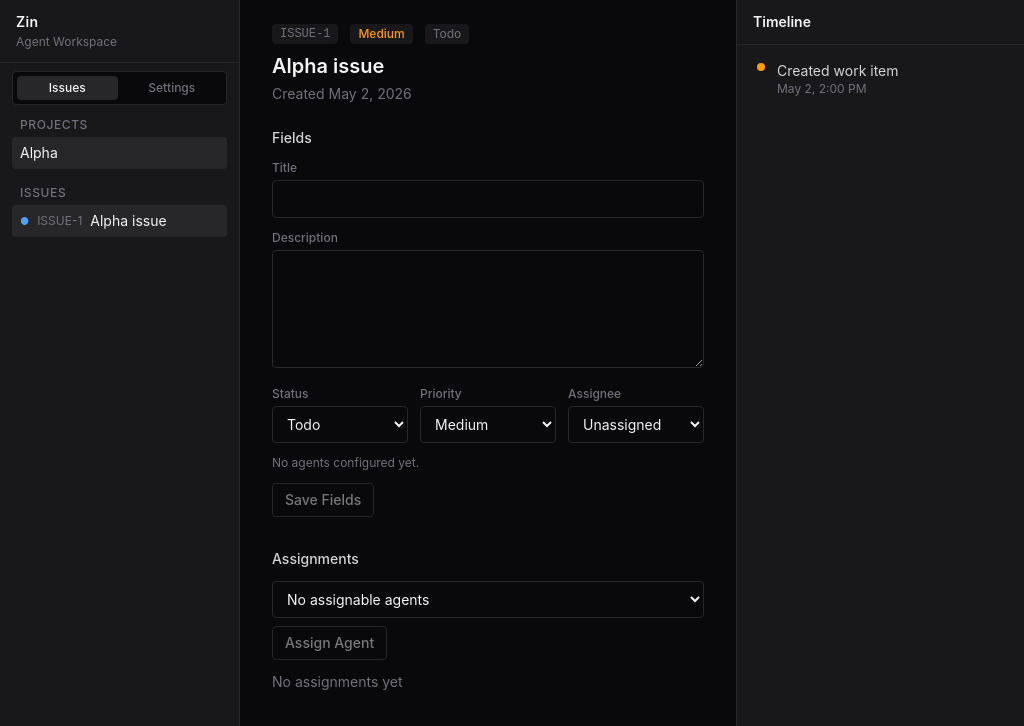
Test case: App › saves issue fields through the daemon and reloads server truth after retry
Check: the heading "Alpha issue" is shown, box [272,54,384,78]
Type "Server title" into the field labelled "Title".
click(488, 199); type("Server title")  # box [272,180,704,218]
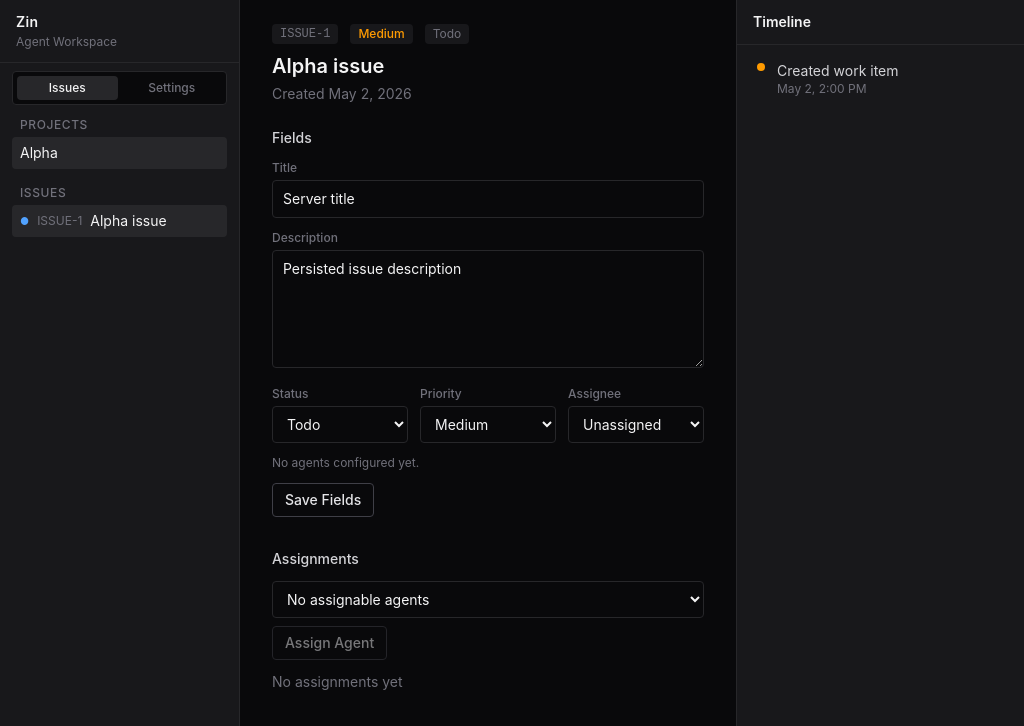
Select "Done" in the dropdown labelled "Status" at (340, 424), box [272,406,408,443]
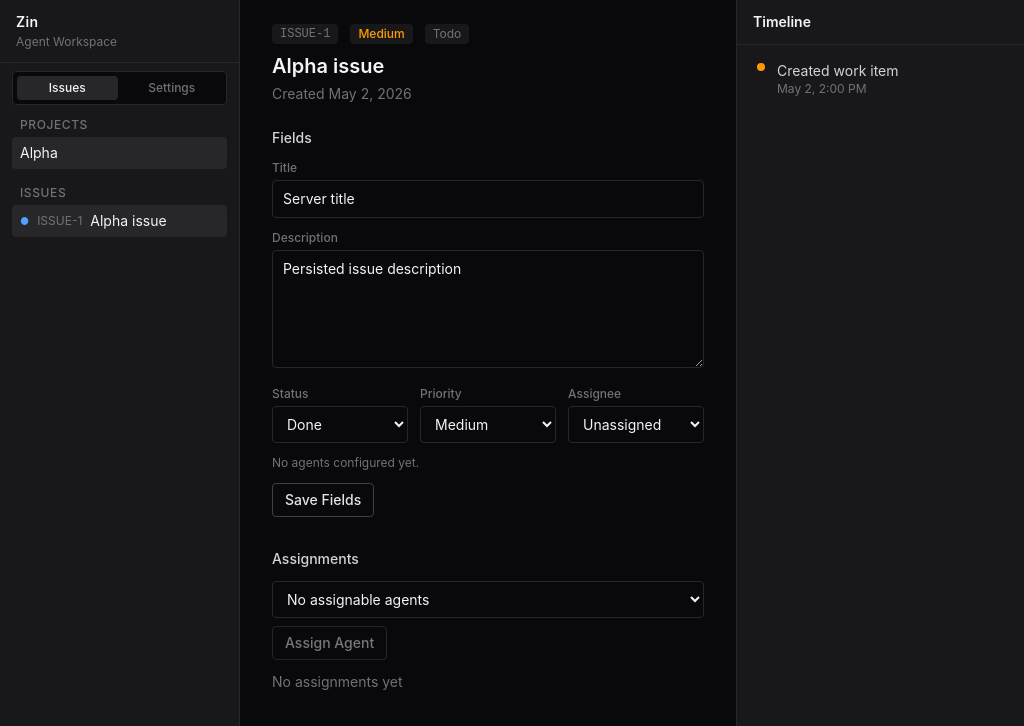
Click the button "Save Fields".
click(323, 500)  # box [272,483,374,517]
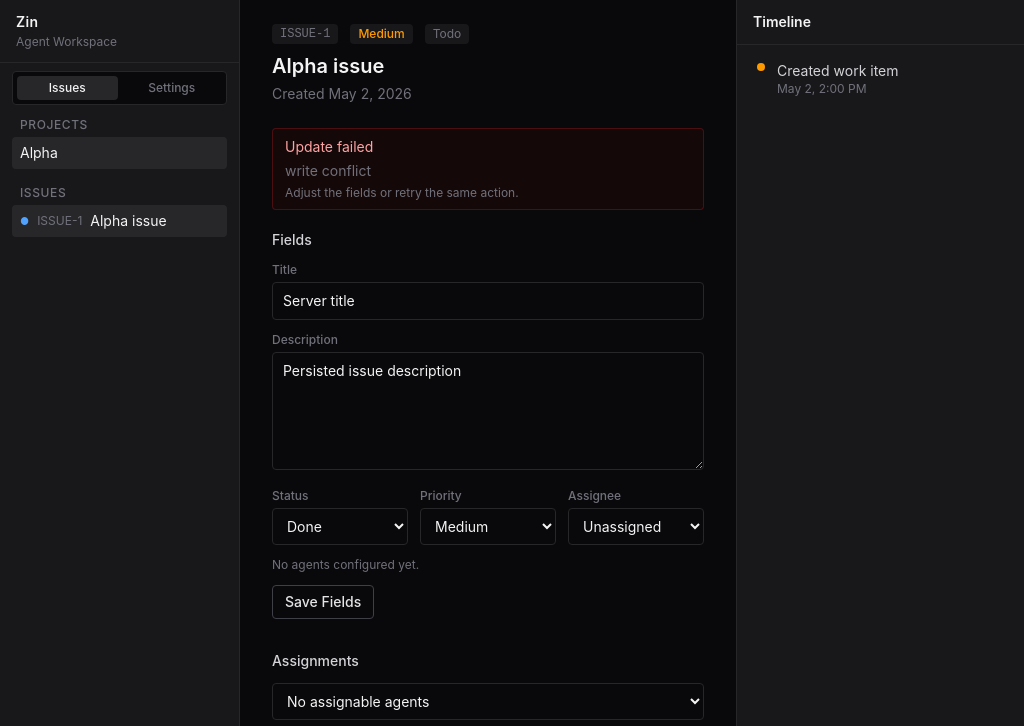
Check: the heading "Alpha issue" is shown, box [272,54,384,78]
Check: the text "Update failed" is shown, box [285,138,373,155]
Check: the text "write conflict" is shown, box [285,162,371,179]
Click the button "Save Fields".
click(323, 602)  # box [272,585,374,619]
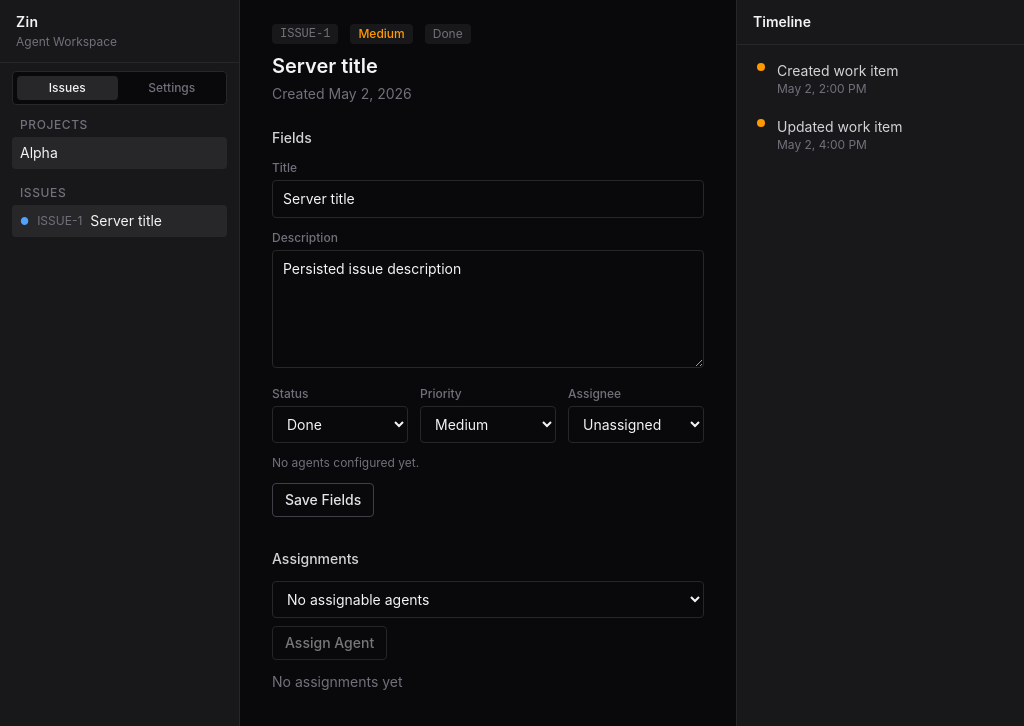
Check: the heading "Server title" is shown, box [272,54,378,78]
Check: the text "Updated work item" is shown, box [777,117,902,137]
